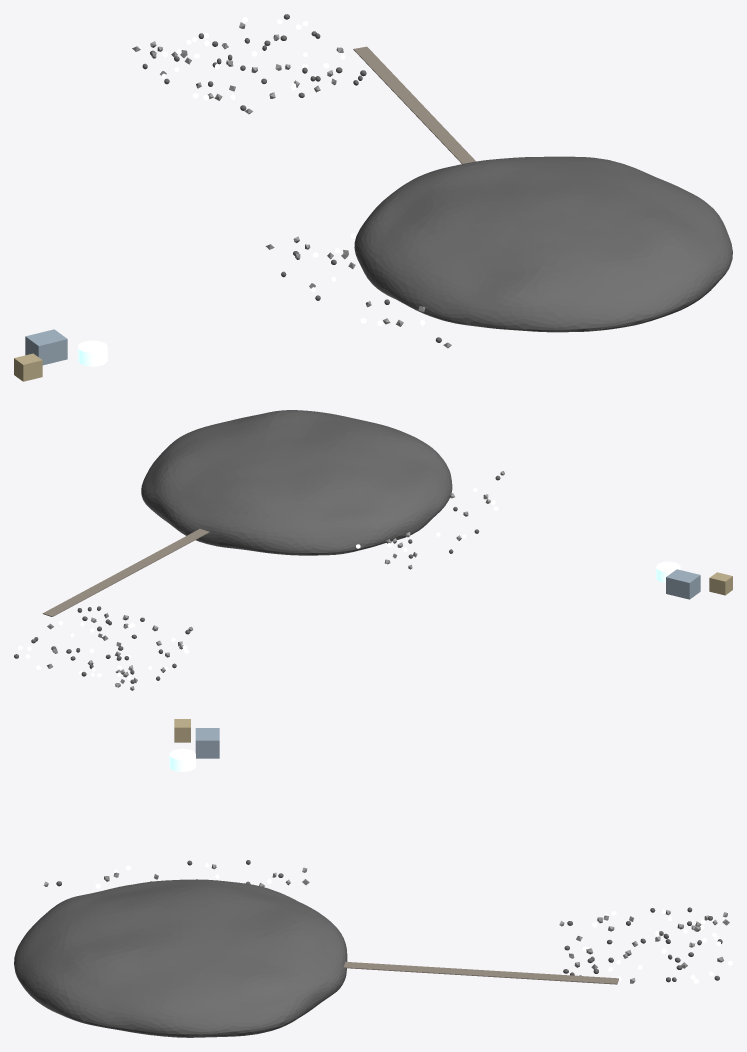
Rendered from Island_FireForest.fbx.
3 views of the same model, one above another, from view 1: azimuth 30°, elevation 25°; view 2: azimuth 150°, elevation 25°; view 3: azimuth 270°, elevation 25° (orthographic). The views are drawn at different scales.
Visible parts, largest first — view 1: TERRAIN_FireForest, BRIDGE_FireForest_to_VolcanoIsle, LAB_BUILDING, HEALER_CENTER, SHOP_BUILDING; view 2: TERRAIN_FireForest, BRIDGE_FireForest_to_VolcanoIsle, LAB_BUILDING, SHOP_BUILDING; view 3: TERRAIN_FireForest, BRIDGE_FireForest_to_VolcanoIsle, LAB_BUILDING, HEALER_CENTER.
Part boxes in pixels (box(x1,y1,x2,y2)): TERRAIN_FireForest: box(354, 156, 732, 332); BRIDGE_FireForest_to_VolcanoIsle: box(353, 46, 475, 163); LAB_BUILDING: box(25, 329, 67, 365); HEALER_CENTER: box(78, 340, 107, 366); SHOP_BUILDING: box(14, 353, 42, 381); TERRAIN_FireForest: box(141, 410, 452, 555); BRIDGE_FireForest_to_VolcanoIsle: box(42, 529, 209, 616); LAB_BUILDING: box(666, 569, 700, 599); SHOP_BUILDING: box(709, 572, 732, 595); TERRAIN_FireForest: box(14, 879, 347, 1037); BRIDGE_FireForest_to_VolcanoIsle: box(343, 961, 618, 984); LAB_BUILDING: box(195, 728, 219, 758); HEALER_CENTER: box(169, 748, 195, 771).
Bounding box in the file's own units: 427 × 41.49 × 433.
